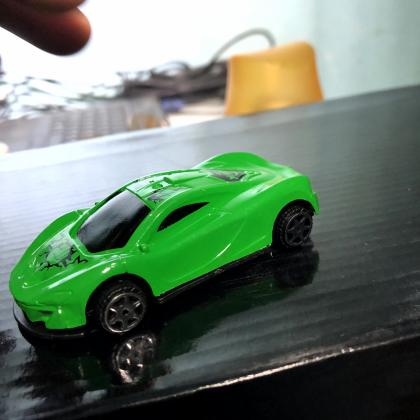Car: (5, 146, 325, 348)
